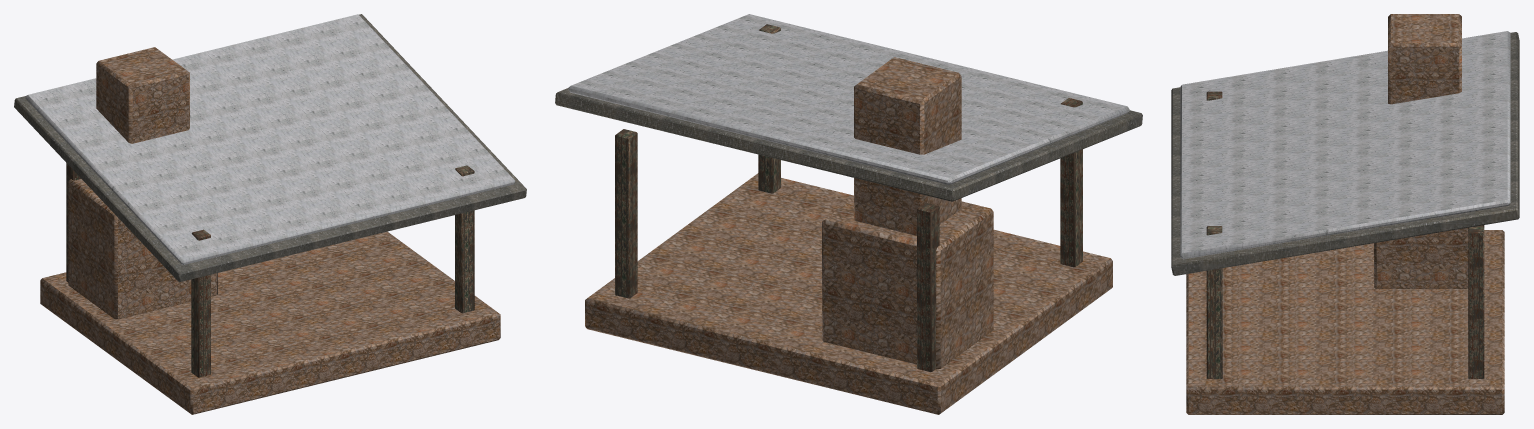
Rendered from env_borin_forge.glb.
3 views of the same model, side by side, from view 1: azimuth 30°, elevation 25°; view 2: azimuth 150°, elevation 25°; view 3: azimuth 270°, elevation 25° (orthographic). The views are drawn at different scales.
Visible parts, largest first — view 1: ENV_Frostheim_BorinForge; view 2: ENV_Frostheim_BorinForge; view 3: ENV_Frostheim_BorinForge.
Part boxes in pixels (x1,y1,x2,y2): ENV_Frostheim_BorinForge: (14, 14, 526, 414); ENV_Frostheim_BorinForge: (555, 14, 1142, 414); ENV_Frostheim_BorinForge: (1171, 14, 1519, 414).
Size of what is drawn, in the model's own units: 7.4 by 5.09 by 6.13.
5 materials, 4 textured.
